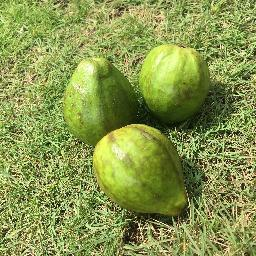Good_guava: (92, 123, 195, 222), (67, 52, 135, 136), (141, 39, 210, 120)
